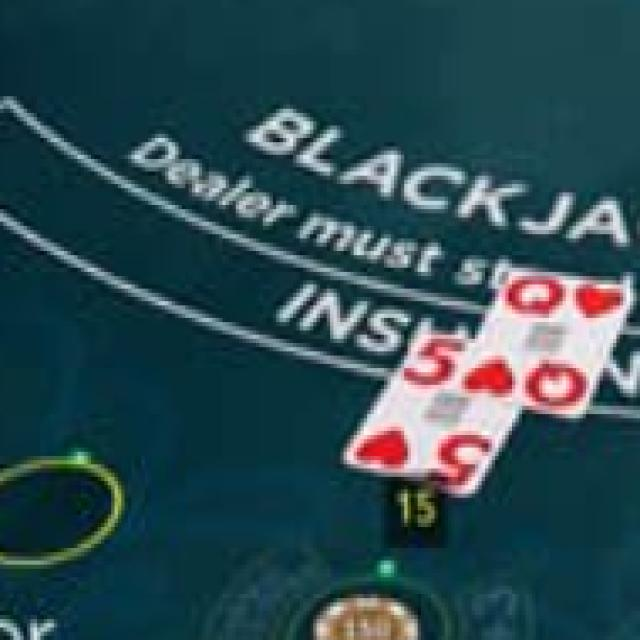Card-5: (342, 326, 521, 499)
Card-Q: (456, 262, 635, 422)
